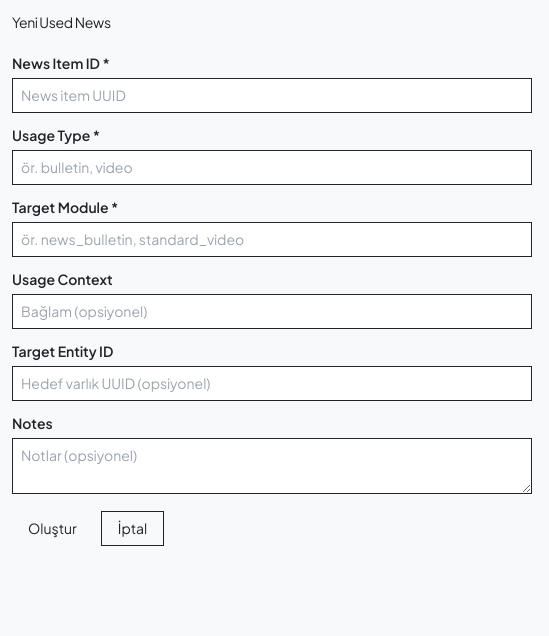
UsedNews form smoke tests › shows news_item_id required error on empty submit
Click the button "Oluştur".
click(52, 528)  # box [12,511,93,546]
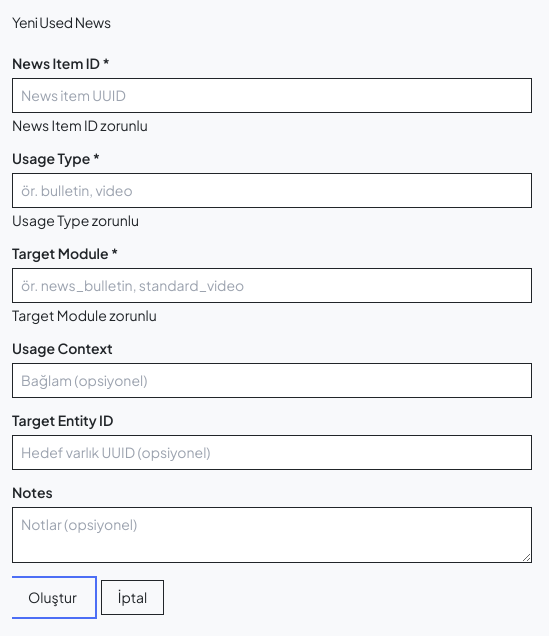
Expected: the text "News Item ID zorunlu" is shown, [12,116,148,134]
